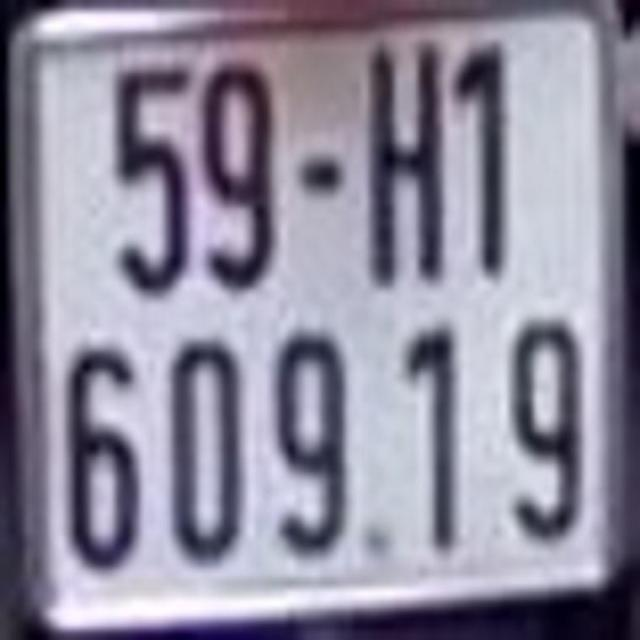0: (170, 344, 244, 561)
1: (456, 36, 508, 282), (406, 320, 456, 545)
5: (114, 66, 198, 293)
6: (69, 344, 144, 569)
9: (202, 65, 276, 281), (280, 326, 347, 556), (515, 316, 583, 542)
H: (368, 47, 443, 286)
